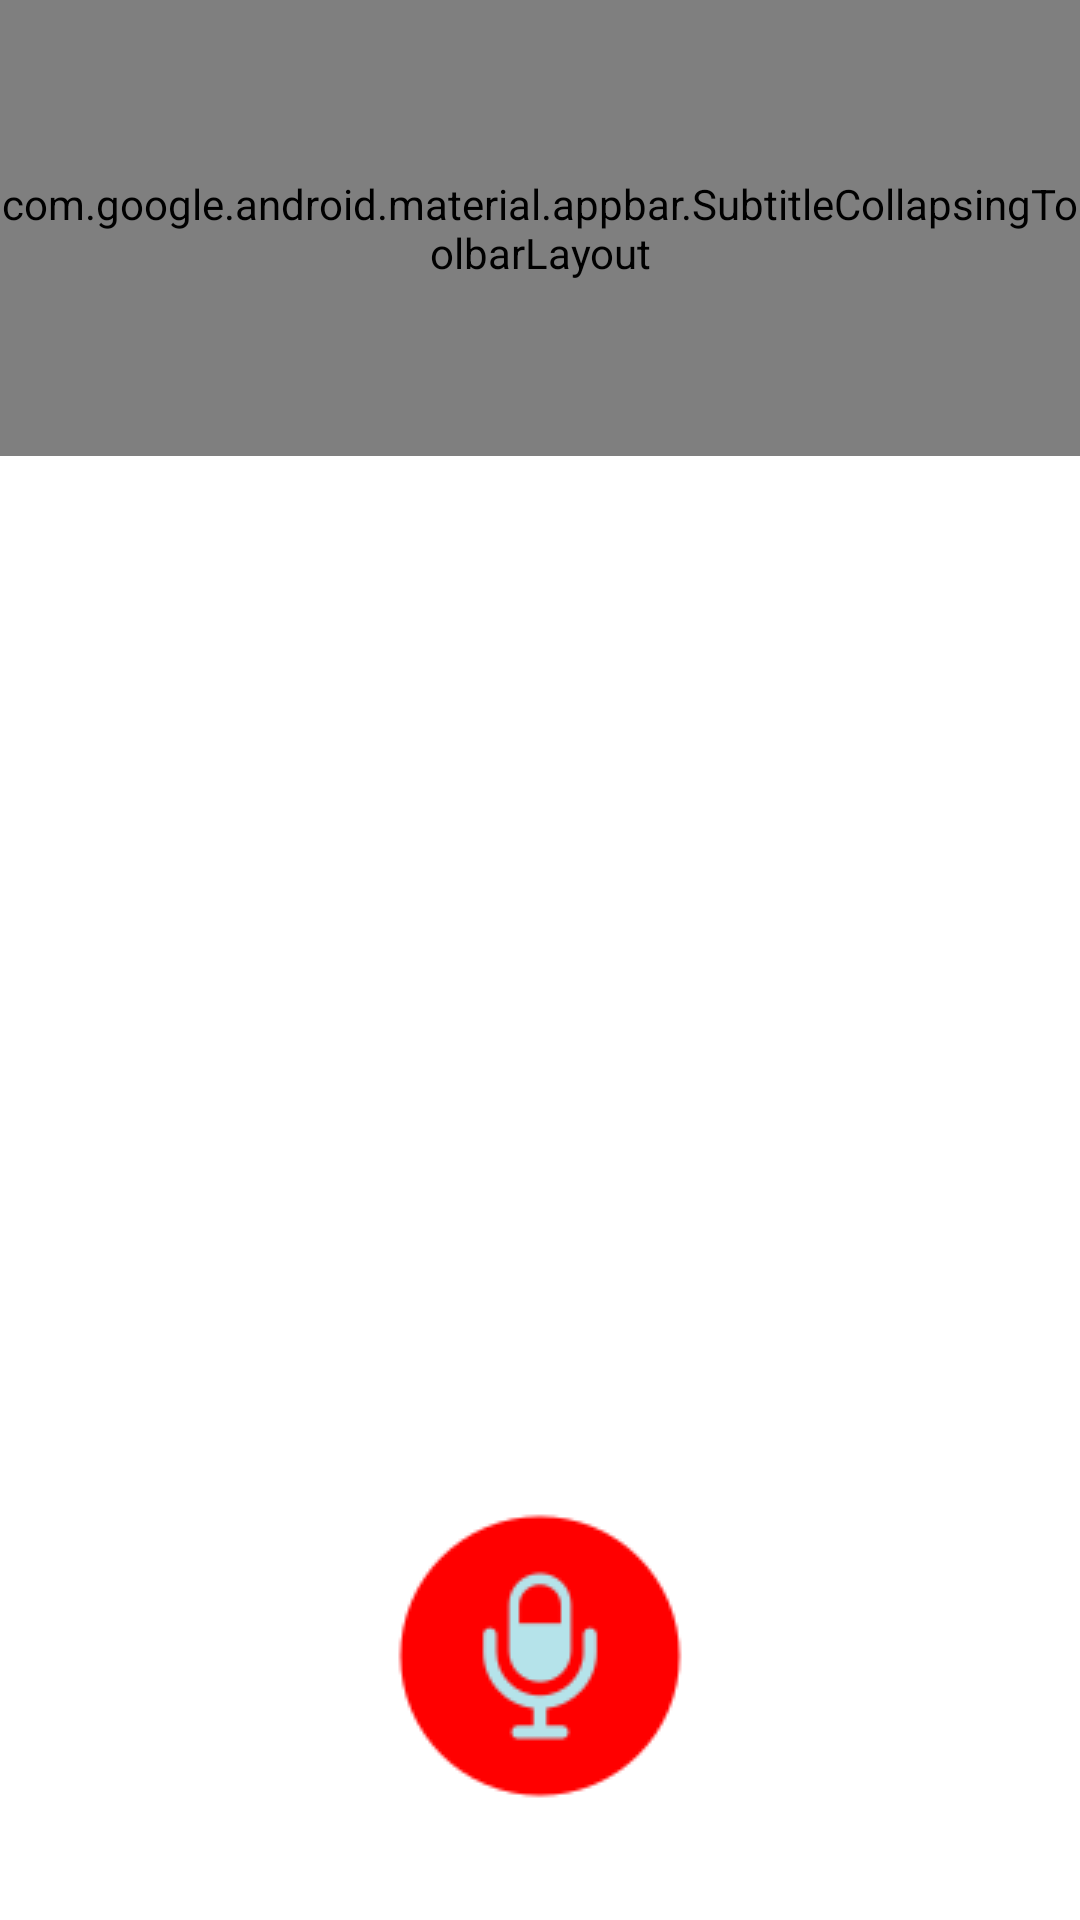

Named icons in this screenshot (1080px x 1920px) and their centers, (x,y):
start record: (540,1656)
